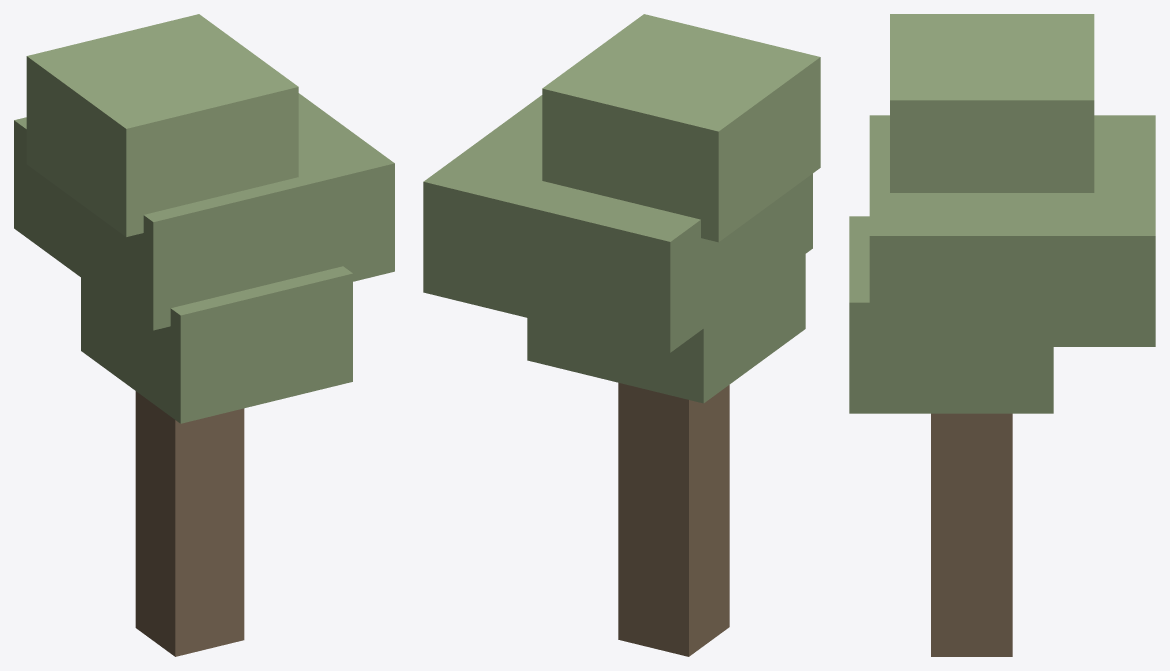
Rendered from olivo_01.glb.
3 views of the same model, side by side, from view 1: azimuth 30°, elevation 25°; view 2: azimuth 150°, elevation 25°; view 3: azimuth 270°, elevation 25° (orthographic). The views are drawn at different scales.
Visible parts, largest first — view 1: olivo_01; view 2: olivo_01; view 3: olivo_01.
Boxes of the visible parts, left/top/right/bottom form: olivo_01: left=14, top=14, right=394, bottom=656; olivo_01: left=423, top=14, right=820, bottom=656; olivo_01: left=849, top=14, right=1155, bottom=656.
Size of the model in its own units: 1.5 by 3.1 by 1.5.
